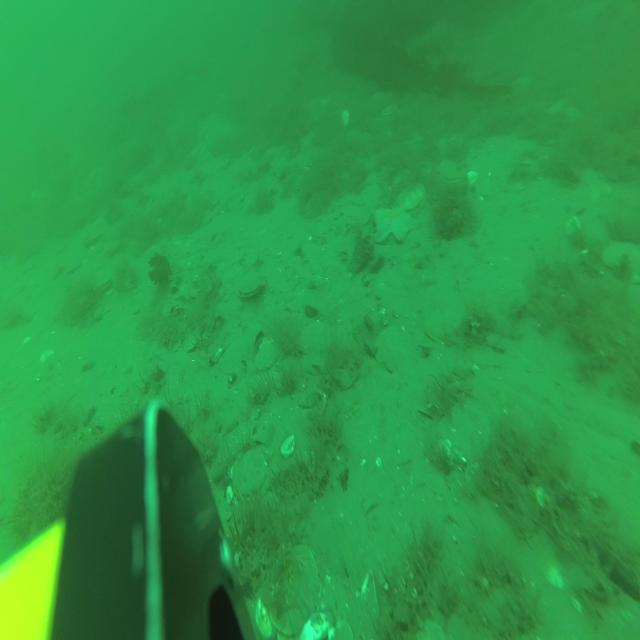scallop: (260, 542, 322, 633), (232, 449, 276, 502), (600, 236, 640, 282), (237, 268, 267, 300), (434, 154, 464, 186), (399, 180, 425, 211), (380, 103, 400, 117), (340, 108, 350, 128)
starfish: (374, 202, 418, 244)
